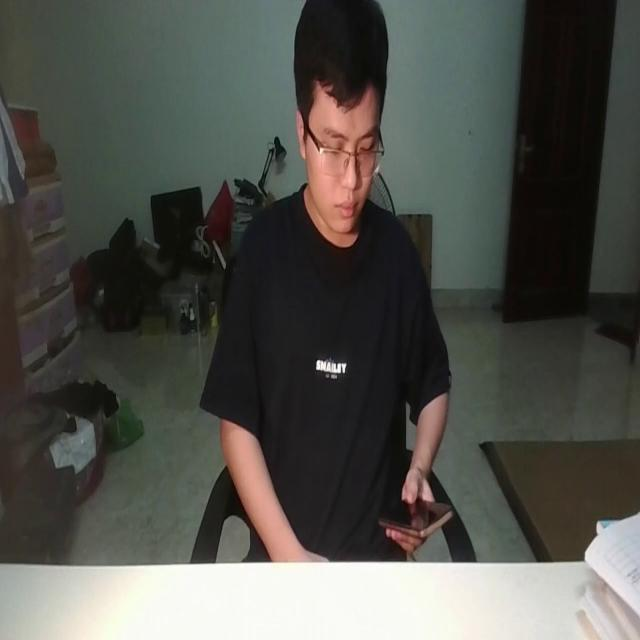phone: (373, 490, 452, 542)
student: (196, 0, 450, 562)
